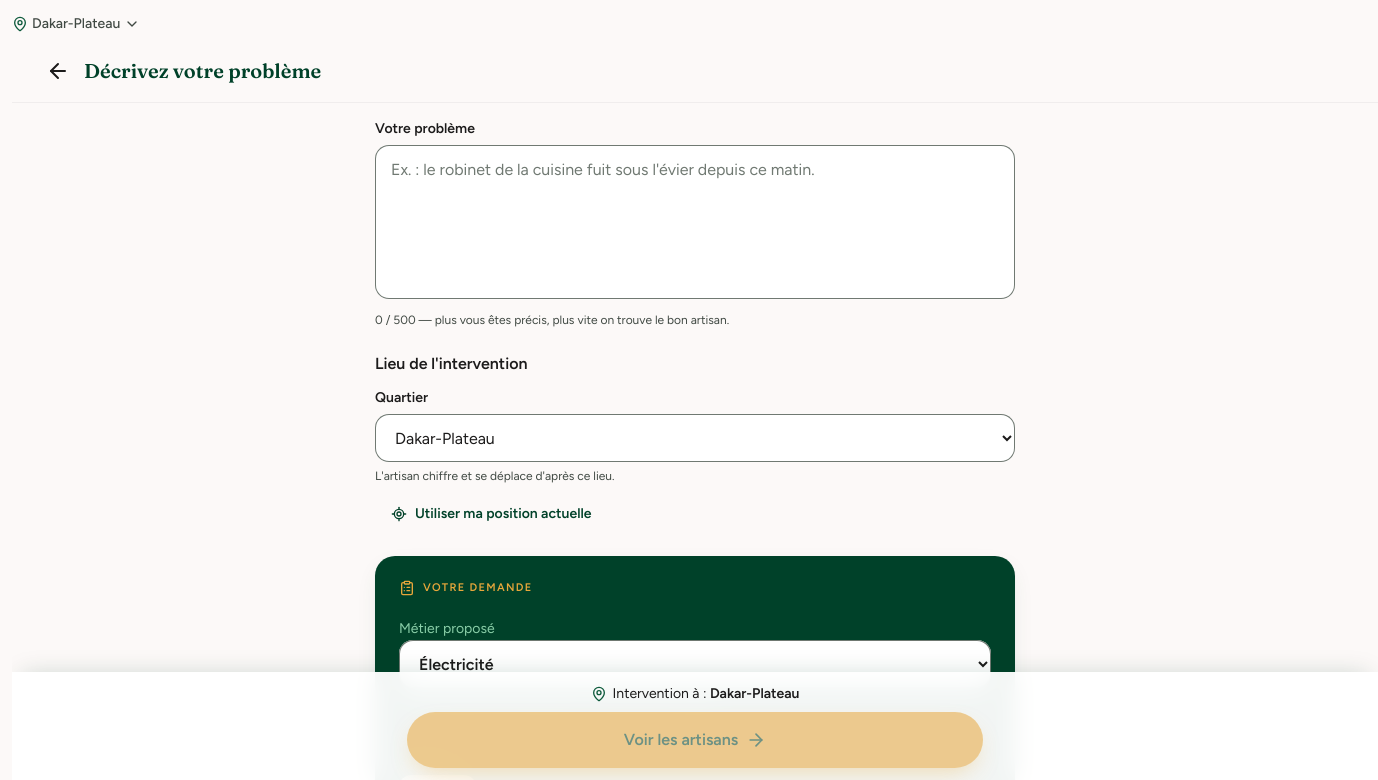
Test case: DescribeProblemScreen › redirects to /connexion instead of creating a request when signed out
Replace the text in the text box labelled "Votre problème" with "Une prise ne fonctionne plus dans le salon." at (695, 222), box [375, 145, 1015, 299]
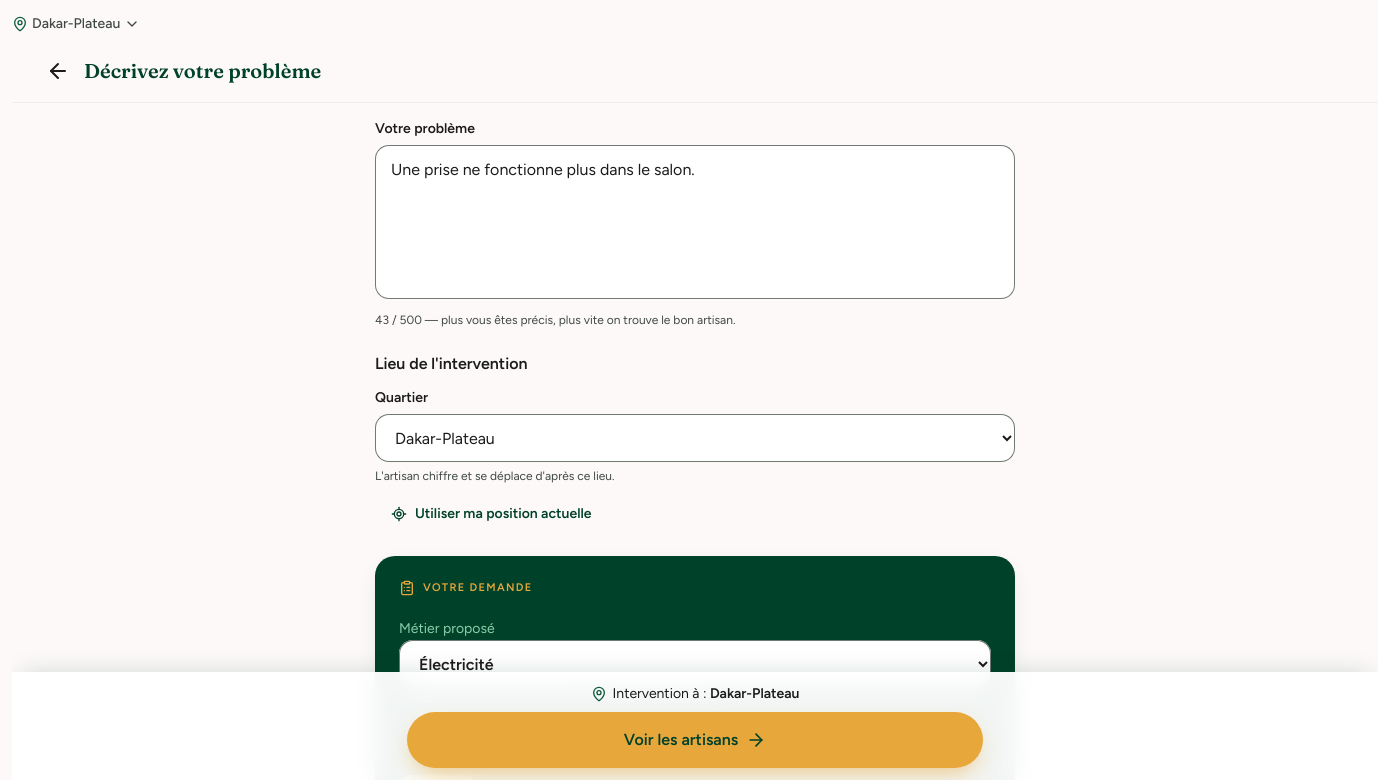
Click the button "Voir les artisans" at (695, 740), box [407, 712, 983, 768]
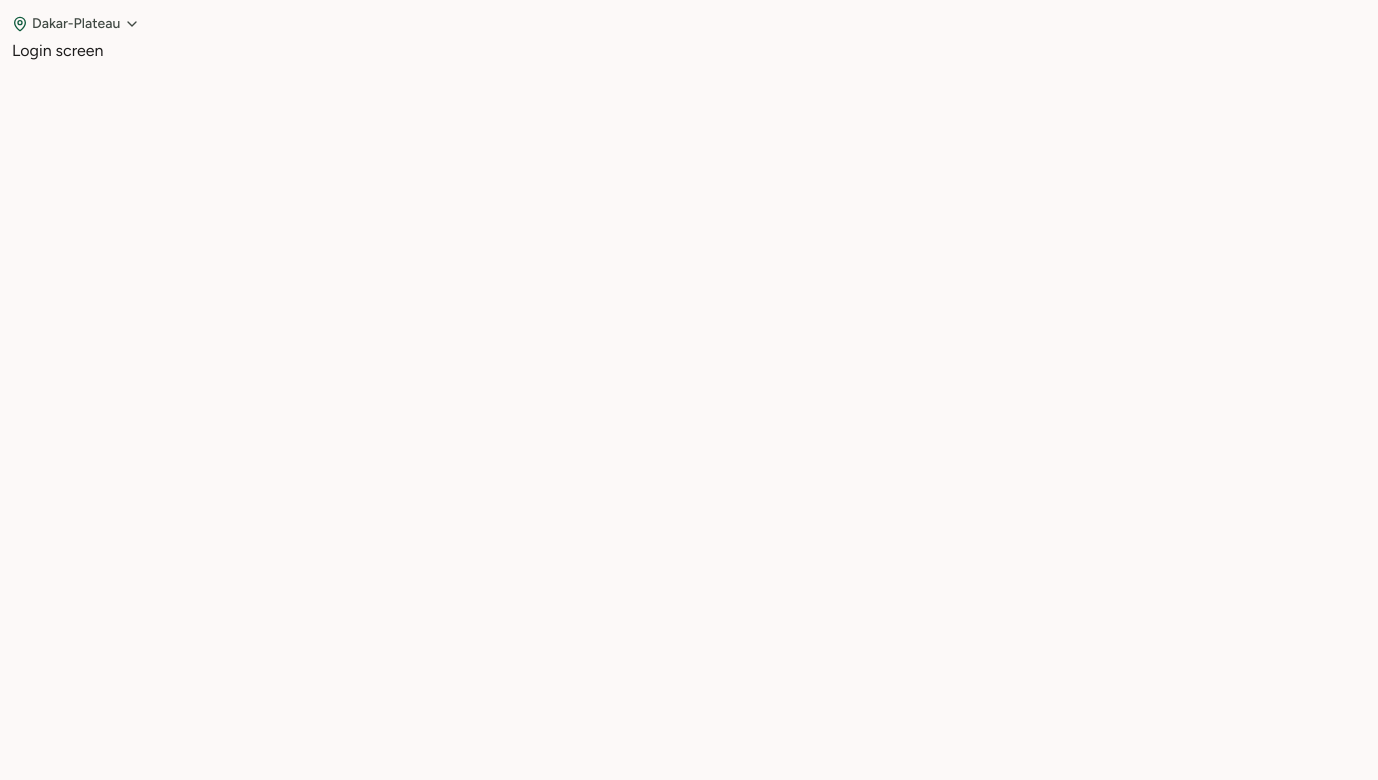
Check: the text "Login screen" is shown, box [12, 41, 104, 60]
